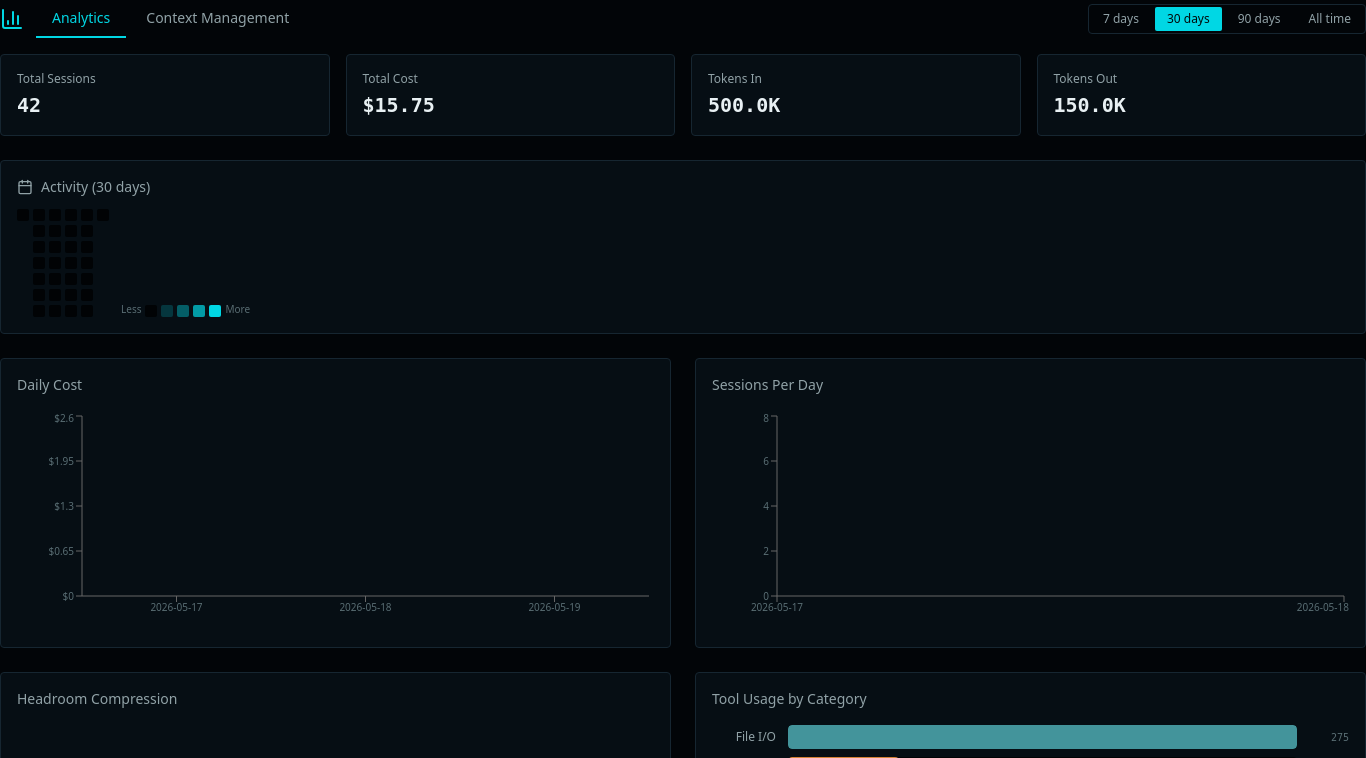
Test: AnalyticsPage — Phase 3: Context Management Tab › Context Management tab renders a table with inventory items
The width and height of the screenshot is (1366, 758).
Expected: the text "Total Sessions" is shown, 17,70 -> 96,87
Switch to Context Management tab
What coordinates should you click on to do the following:
click the button "Context Management"
I would click on:
 (218, 19)
Its box is 130,0 -> 305,38.
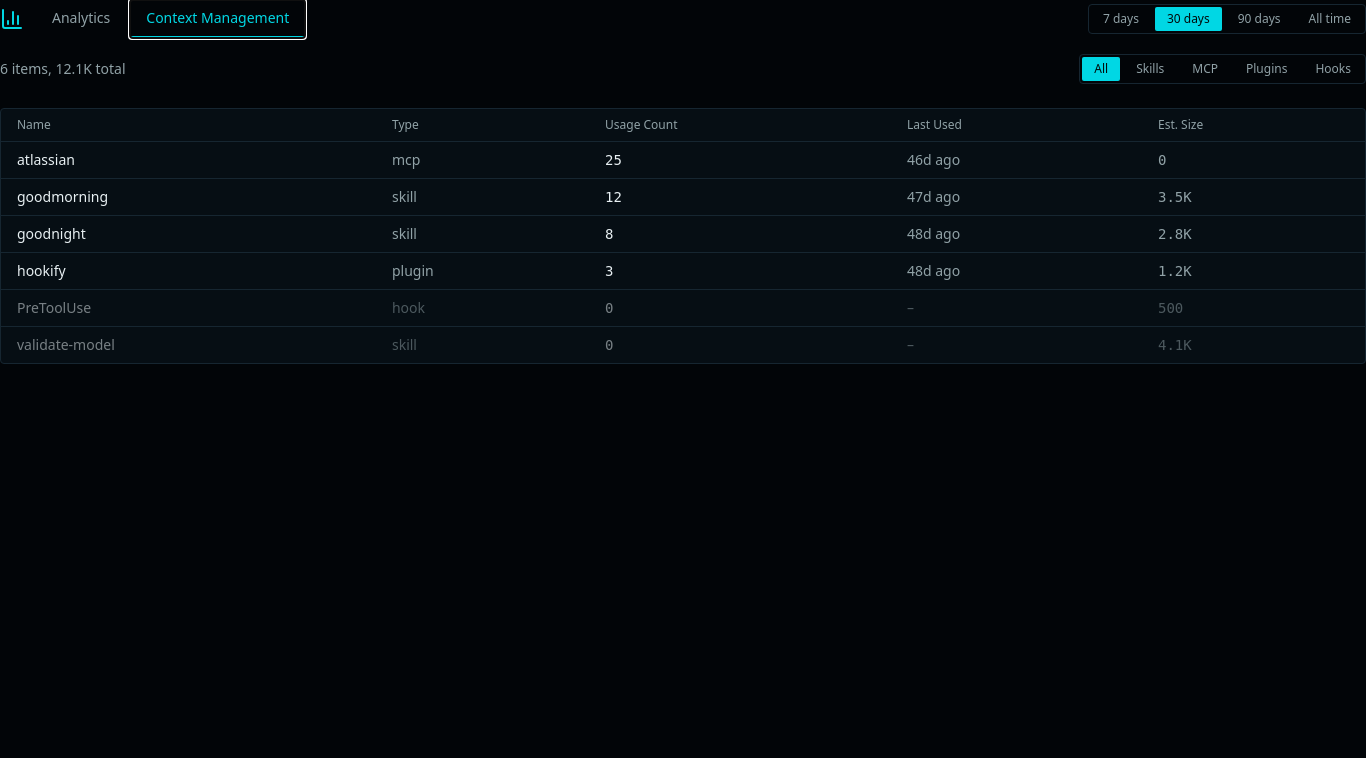
Now the text "goodmorning" is shown, box 1,178 -> 376,216
Now the text "atlassian" is shown, box 1,142 -> 376,178
Now the text "hookify" is shown, box 1,252 -> 376,290
